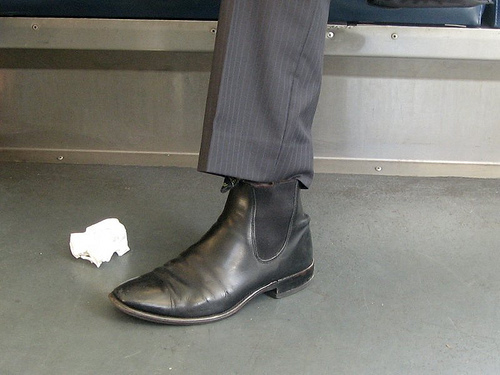litter: (67, 215, 132, 268)
